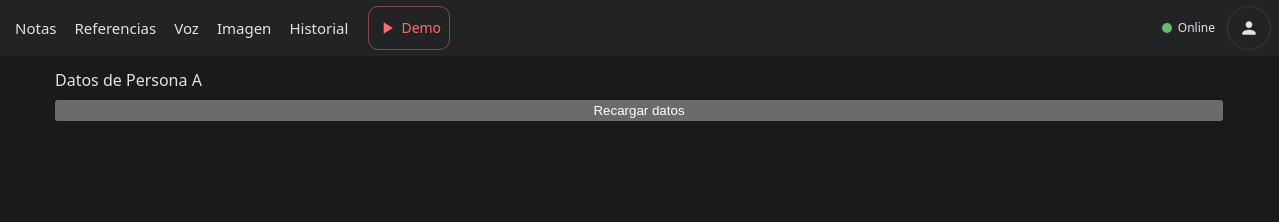
Test: Cierre de sesión › un 403 por CSRF vencido pide reintento explícito sin reenviar; el reintento cierra
This screenshot has width=1279, height=222.
Later steps or results of the test are not shown.
What coordinates should you click on to do the following:
click the button named "Cuenta de "
I would click on:
 (1249, 28)
Its box is [1227, 6, 1271, 50].
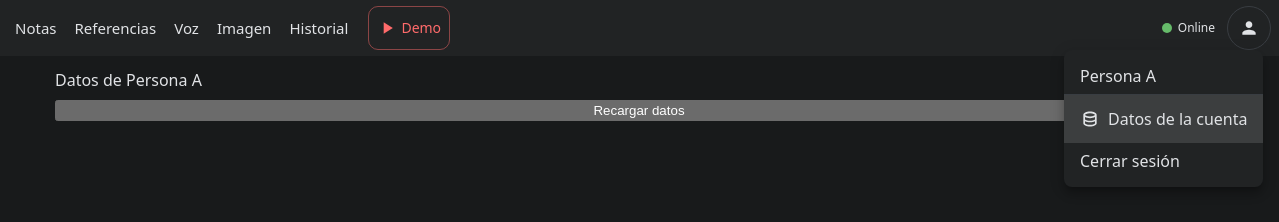
What coordinates should you click on to do the following:
click the menu item "Cerrar sesión"
I would click on:
 (1130, 161)
Its box is [1080, 150, 1180, 172].
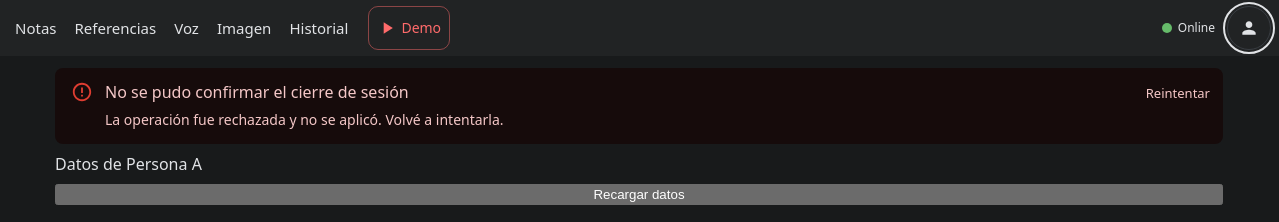
Check: the button named "Cuenta de Persona A" is shown, box [1227, 6, 1271, 50]
Check: the text "No se pudo confirmar el cierre de sesión" is shown, box [105, 81, 409, 103]
Check: the message that starts with "No se pudo confirmar el cierre de sesión" shows "La operación fue rechazada y no se aplicó. Volvé a intentarla.", box [105, 110, 504, 129]
